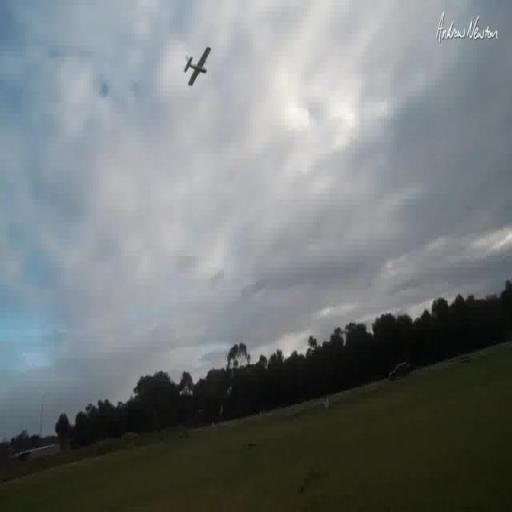uav: (178, 34, 219, 100)
